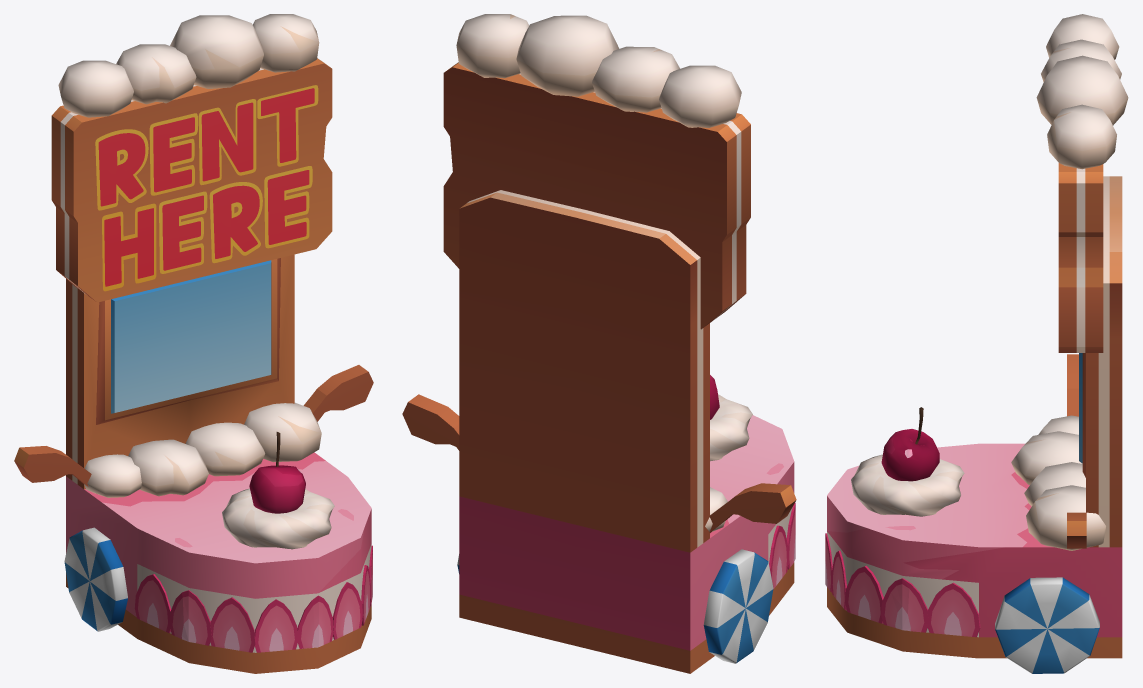
Rendered from VE_CKR_Kiosk_001.FBX.
The picture shows the model from 3 angles, left to right: view 1: azimuth 30°, elevation 25°; view 2: azimuth 150°, elevation 25°; view 3: azimuth 270°, elevation 25°; orthographic projection. The views are drawn at different scales.
Visible parts, largest first — view 1: VE_CKR_Kiosk_001; view 2: VE_CKR_Kiosk_001; view 3: VE_CKR_Kiosk_001.
Boxes of the visible parts, <box> form: VE_CKR_Kiosk_001: <box>14,14,373,673</box>; VE_CKR_Kiosk_001: <box>402,14,796,673</box>; VE_CKR_Kiosk_001: <box>825,14,1128,673</box>.
Size of the model in its own units: 102 by 156 by 76.25.
